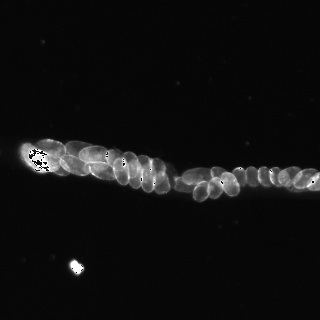embryo: (20, 143, 50, 172), (29, 148, 59, 171), (59, 154, 88, 175), (65, 141, 94, 161), (293, 168, 319, 189), (277, 166, 300, 189), (181, 167, 209, 185), (46, 154, 70, 175), (210, 167, 236, 185), (36, 139, 63, 156), (79, 145, 106, 161), (269, 167, 290, 187), (114, 155, 128, 185), (124, 151, 139, 179), (138, 155, 151, 186), (222, 173, 239, 196), (105, 149, 123, 170), (152, 158, 166, 184), (129, 155, 140, 188), (90, 164, 113, 179), (207, 177, 222, 199), (192, 181, 208, 201), (141, 166, 153, 192), (174, 176, 192, 193), (284, 177, 304, 192), (155, 174, 170, 194), (245, 166, 258, 187), (257, 166, 270, 186), (232, 167, 245, 186)
